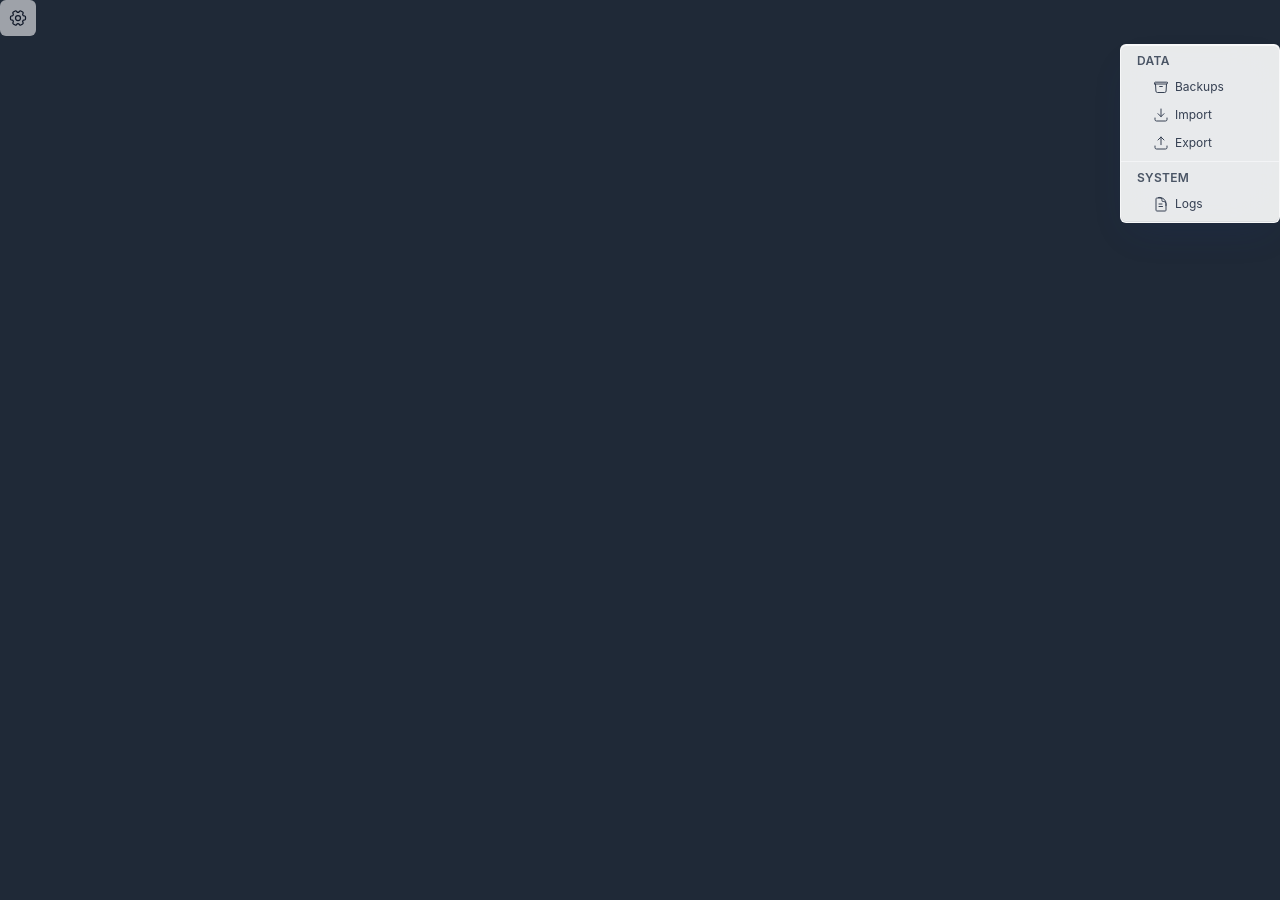
it: DataManagementMenu › opens the backups modal and loads the list when the Backups item is clicked
Click the menu item "Backups" at [1200, 87], box [1121,73,1279,101]
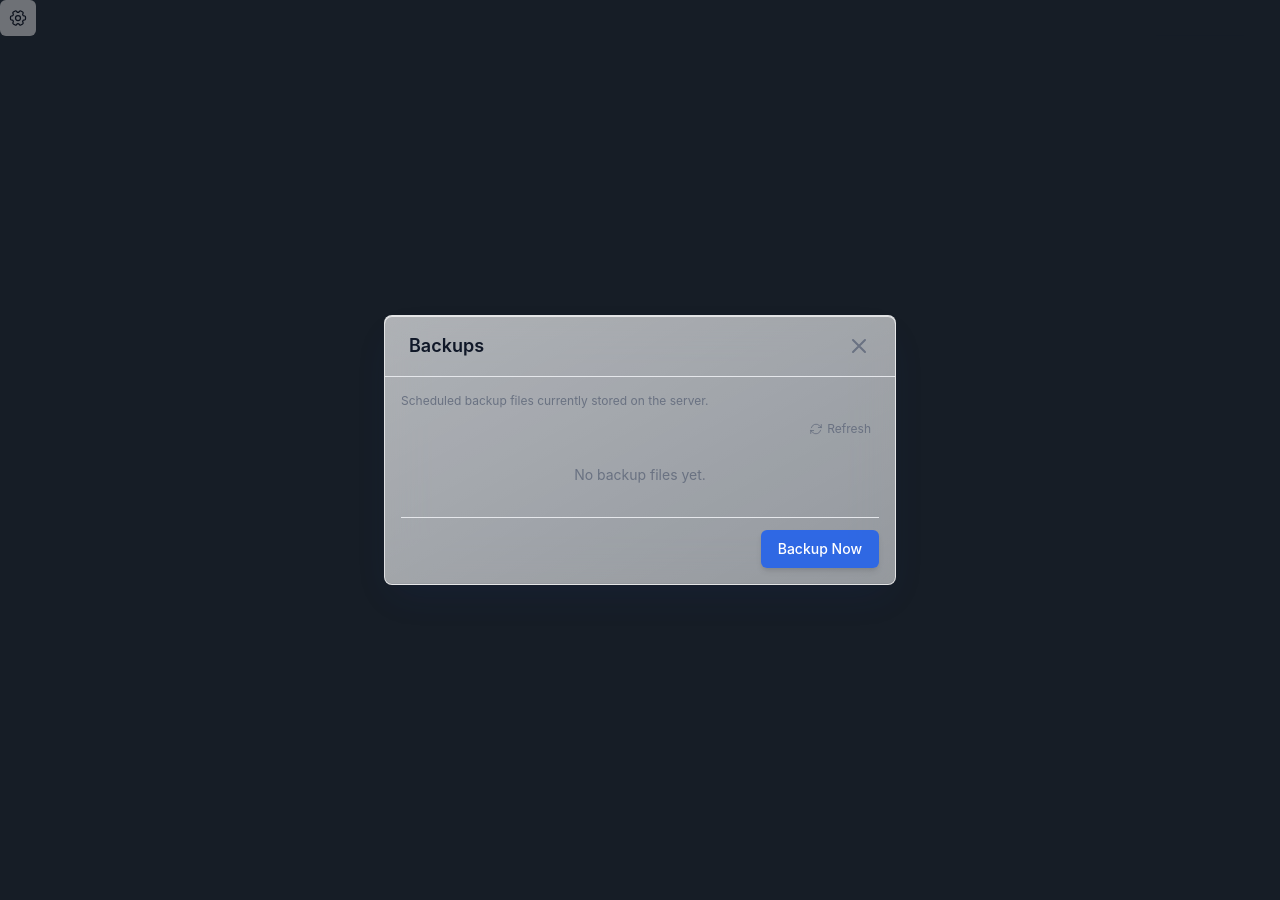
Now the heading "Backups" is shown, box [409,332,484,360]
